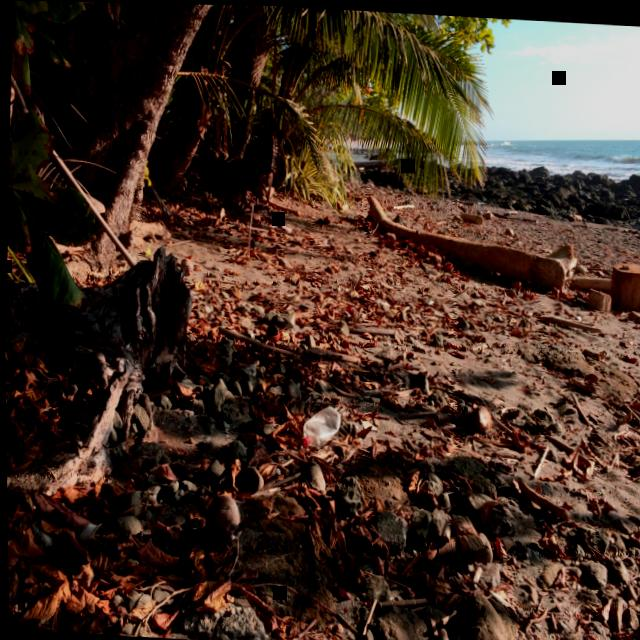Clear plastic bottle: (301, 403, 338, 444)
Plastic bottle cap: (301, 434, 307, 442)
